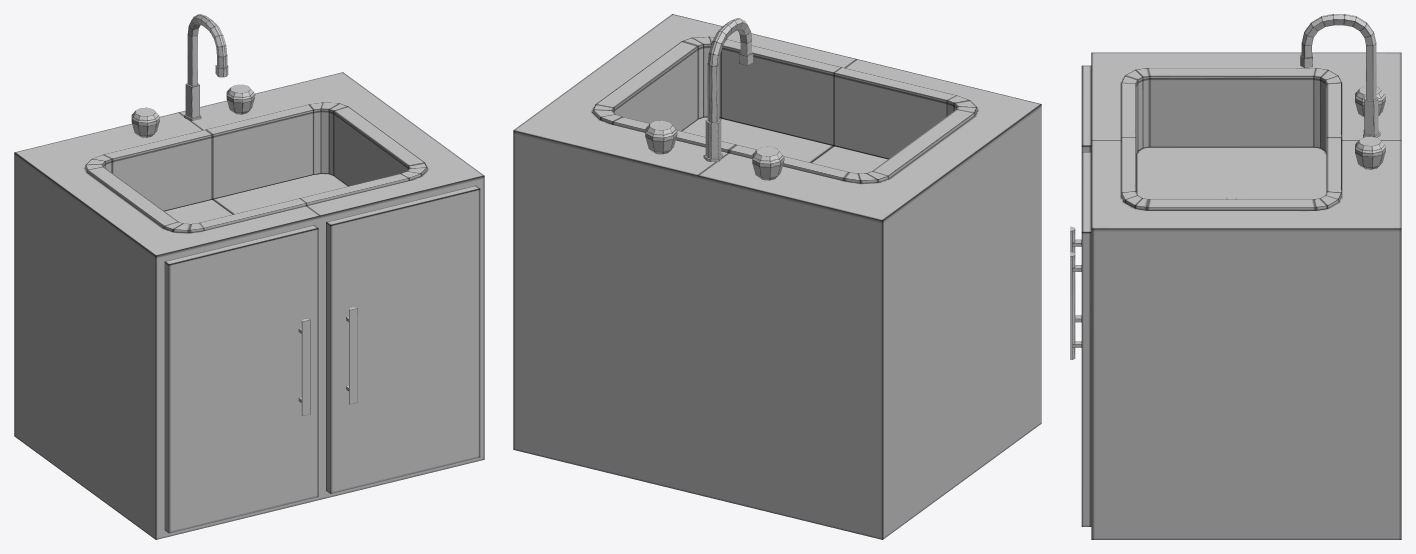
File: Sink Model.fbx
The picture shows the model from 3 angles, left to right: view 1: azimuth 30°, elevation 25°; view 2: azimuth 150°, elevation 25°; view 3: azimuth 270°, elevation 25°; orthographic projection. The views are drawn at different scales.
Parts seen in each view (by area): view 1: Sink Body, Front 1 (s), Front 2 (s), Sink Pipe (s), Handle 1 (s), Handle 2 (s), cold handle (s), hot handle (s); view 2: Sink Body, Sink Pipe (s), cold handle (s), hot handle (s); view 3: Sink Body, Front 2 (s), Sink Pipe (s), Front 1 (s), cold handle (s), Handle 2 (s), hot handle (s).
Part boxes in pixels (box(x1,y1,x2,y2)): Sink Body: box(14, 72, 484, 539); Front 1 (s): box(164, 225, 318, 533); Front 2 (s): box(326, 185, 480, 493); Sink Pipe (s): box(184, 14, 228, 120); Handle 1 (s): box(298, 318, 310, 415); Handle 2 (s): box(346, 307, 357, 404); cold handle (s): box(226, 84, 255, 114); hot handle (s): box(131, 107, 159, 137); Sink Body: box(513, 14, 1041, 539); Sink Pipe (s): box(703, 18, 753, 161); cold handle (s): box(645, 120, 677, 154); hot handle (s): box(752, 146, 784, 180); Sink Body: box(1091, 52, 1401, 539); Front 2 (s): box(1081, 152, 1091, 526); Sink Pipe (s): box(1300, 14, 1380, 137); Front 1 (s): box(1081, 65, 1091, 152); cold handle (s): box(1355, 136, 1385, 169); Handle 2 (s): box(1070, 252, 1081, 359); hot handle (s): box(1355, 86, 1385, 117).
Bounding box in the file's own units: 110 × 128 × 87.77.
1 material, 1 textured.
